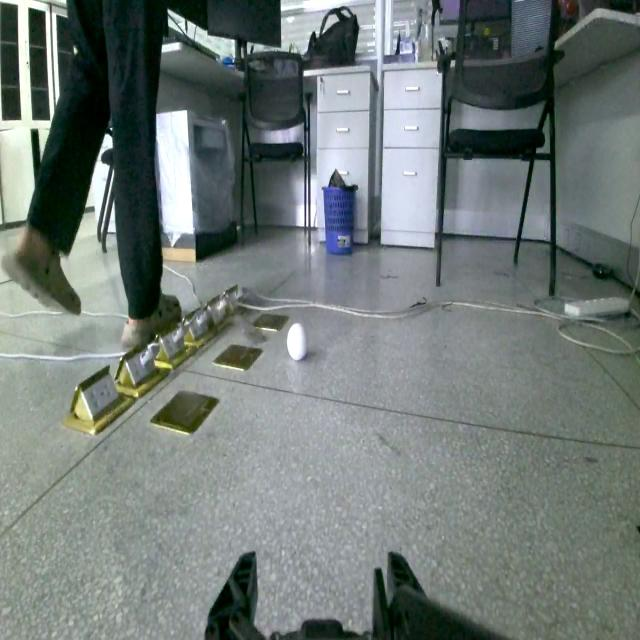ball1: (286, 320, 309, 362)
